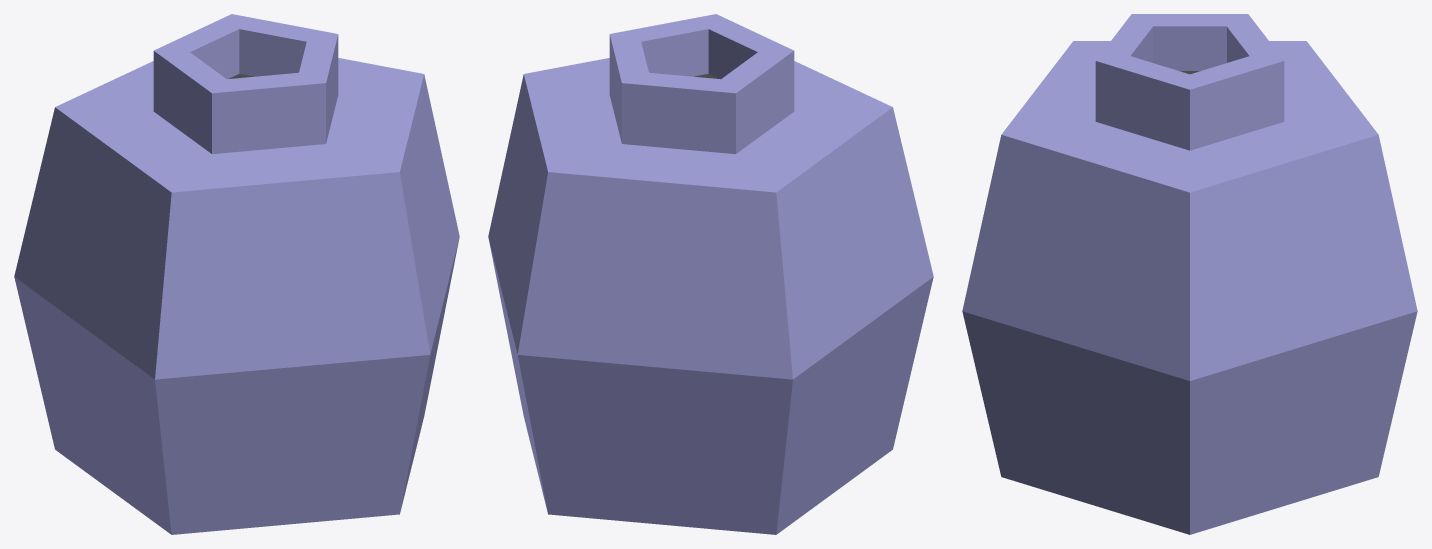
File: cup_03.fbx
The picture shows the model from 3 angles, left to right: view 1: azimuth 30°, elevation 25°; view 2: azimuth 150°, elevation 25°; view 3: azimuth 270°, elevation 25°; orthographic projection.
Visible parts, largest first — view 1: bottle_06; view 2: bottle_06; view 3: bottle_06.
Boxes of the visible parts, x1=… form: bottle_06: x1=14, y1=14, x2=459, y2=534; bottle_06: x1=488, y1=14, x2=933, y2=534; bottle_06: x1=962, y1=14, x2=1417, y2=534.
Bounding box in the file's own units: 23.65 × 24.3 × 24.86.
